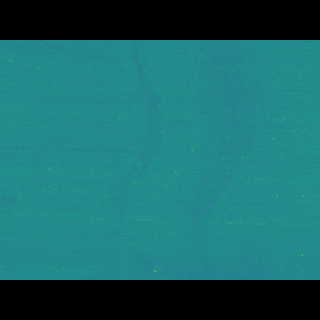Loch: (74, 67, 277, 250)
